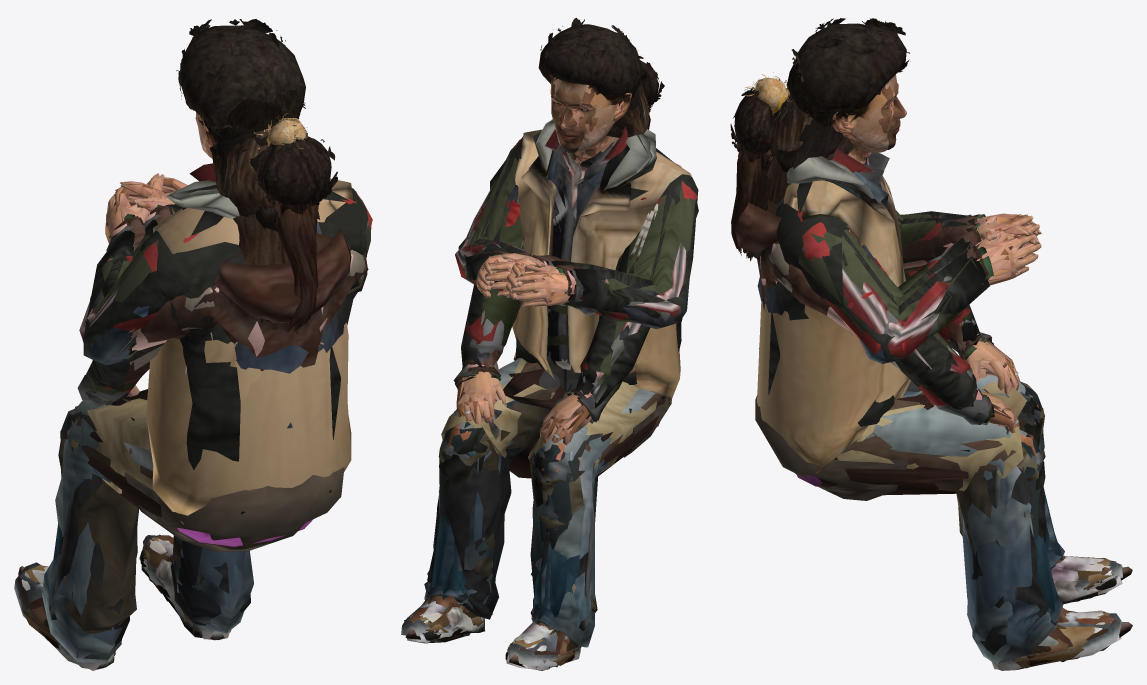
Rendered from audience.glb.
The picture shows the model from 3 angles, left to right: view 1: azimuth 30°, elevation 25°; view 2: azimuth 150°, elevation 25°; view 3: azimuth 270°, elevation 25°; orthographic projection. The views are drawn at different scales.
Parts seen in each view (by area): view 1: Male_Adult_05_rest, Male_Adult_04_rest, Male_Adult_04_clapA, Female_Adult_09_rest, Male_Adult_10_rest, Male_Adult_09_rest, Female_Adult_04_clapA, Female_Adult_11_rest, Male_Adult_05_clapA, Female_Adult_04_rest, Male_Adult_01_rest, Male_Adult_12_rest (+20 smaller); view 2: Male_Adult_05_rest, Male_Adult_04_rest, Male_Adult_10_rest, Male_Adult_04_clapA, Male_Adult_05_clapA, Male_Adult_13_rest, Male_Adult_09_rest, Male_Adult_01_rest, Female_Adult_11_rest, Female_Adult_05_rest, Male_Adult_12_rest, Male_Adult_06_rest (+18 smaller); view 3: Male_Adult_05_rest, Male_Adult_04_rest, Male_Adult_09_rest, Male_Adult_04_clapA, Male_Adult_10_rest, Female_Adult_11_rest, Male_Adult_05_clapA, Male_Adult_10_clapA, Male_Adult_16_rest, Female_Adult_09_rest, Male_Adult_01_rest, Male_Adult_12_rest (+22 smaller).
Boxes of the visible parts, left/top/right/bottom form: Male_Adult_05_rest: left=21, top=129, right=354, bottom=644; Male_Adult_04_rest: left=32, top=19, right=367, bottom=633; Male_Adult_04_clapA: left=83, top=25, right=366, bottom=590; Female_Adult_09_rest: left=124, top=196, right=349, bottom=551; Male_Adult_10_rest: left=24, top=90, right=300, bottom=668; Male_Adult_09_rest: left=42, top=112, right=278, bottom=662; Female_Adult_04_clapA: left=114, top=216, right=367, bottom=582; Female_Adult_11_rest: left=88, top=132, right=337, bottom=601; Male_Adult_05_clapA: left=90, top=131, right=371, bottom=619; Female_Adult_04_rest: left=58, top=113, right=353, bottom=583; Male_Adult_01_rest: left=53, top=114, right=218, bottom=664; Male_Adult_12_rest: left=62, top=323, right=336, bottom=654; Male_Adult_05_rest: left=420, top=93, right=691, bottom=665; Male_Adult_04_rest: left=423, top=18, right=682, bottom=643; Male_Adult_10_rest: left=410, top=89, right=661, bottom=649; Male_Adult_04_clapA: left=458, top=28, right=698, bottom=323; Male_Adult_05_clapA: left=465, top=96, right=695, bottom=626; Male_Adult_13_rest: left=409, top=102, right=616, bottom=661; Male_Adult_09_rest: left=424, top=93, right=664, bottom=651; Male_Adult_01_rest: left=441, top=78, right=656, bottom=661; Female_Adult_11_rest: left=446, top=56, right=666, bottom=667; Female_Adult_05_rest: left=424, top=111, right=633, bottom=659; Male_Adult_12_rest: left=424, top=104, right=655, bottom=653; Male_Adult_06_rest: left=401, top=90, right=681, bottom=666; Male_Adult_05_rest: left=757, top=92, right=1113, bottom=668; Male_Adult_04_rest: left=768, top=18, right=1103, bottom=646; Male_Adult_09_rest: left=761, top=106, right=1057, bottom=664; Male_Adult_04_clapA: left=776, top=20, right=1038, bottom=531; Male_Adult_10_rest: left=787, top=64, right=1110, bottom=655; Female_Adult_11_rest: left=730, top=86, right=1066, bottom=661; Male_Adult_05_clapA: left=788, top=94, right=1032, bottom=338; Male_Adult_10_clapA: left=819, top=100, right=1111, bottom=623; Male_Adult_16_rest: left=840, top=74, right=1104, bottom=669; Female_Adult_09_rest: left=755, top=149, right=1045, bottom=500; Male_Adult_01_rest: left=826, top=81, right=1026, bottom=670; Male_Adult_12_rest: left=757, top=112, right=1115, bottom=635.
Bounding box in the file's own units: 0.6336 × 1.51 × 0.9012.
Materials: 55 (55 with a texture image).
